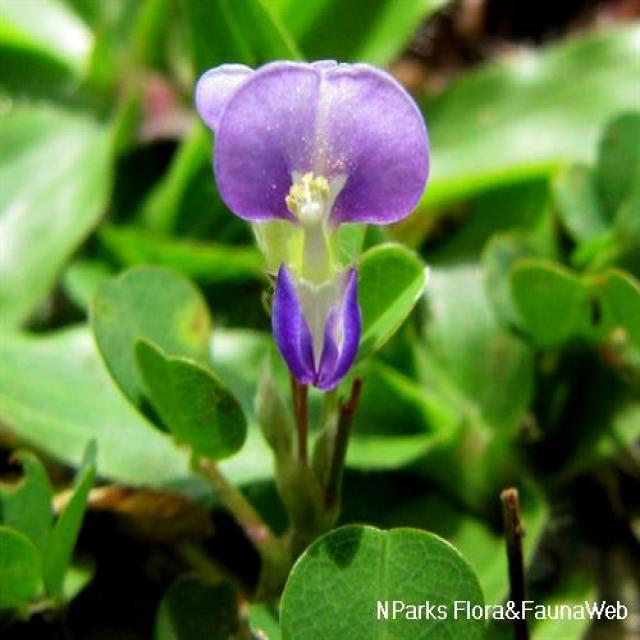organic waste: (198, 37, 428, 416)
